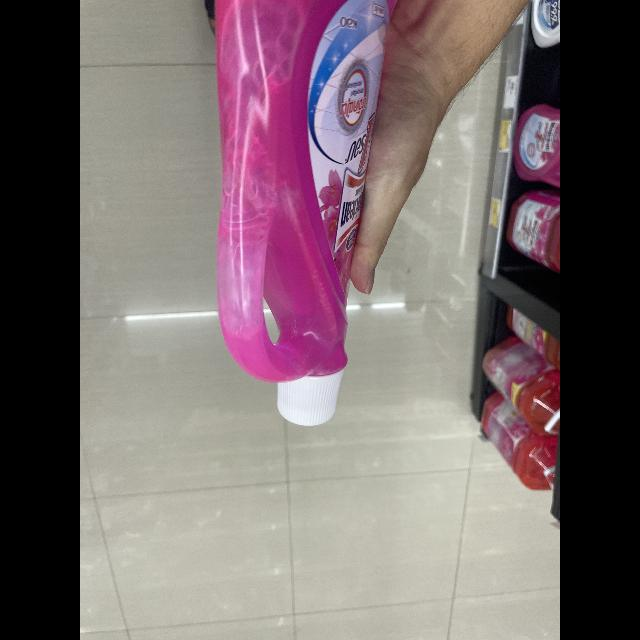chemical_plastic_gallon: (198, 0, 398, 436)
